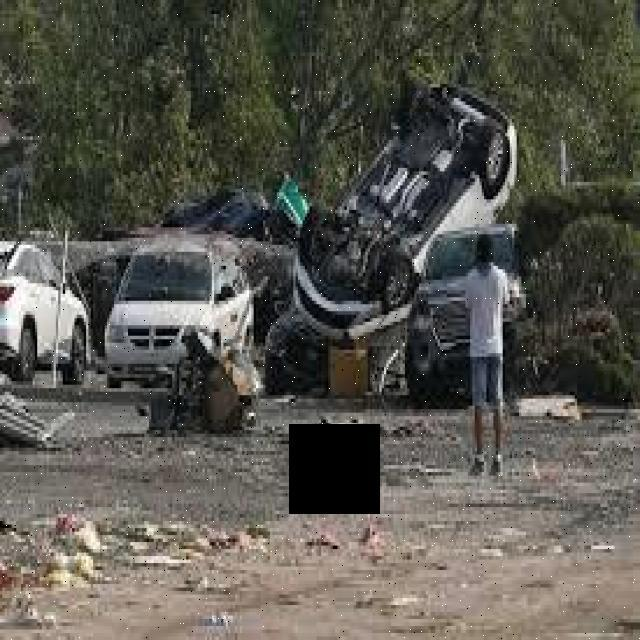severe: (282, 64, 522, 344)
